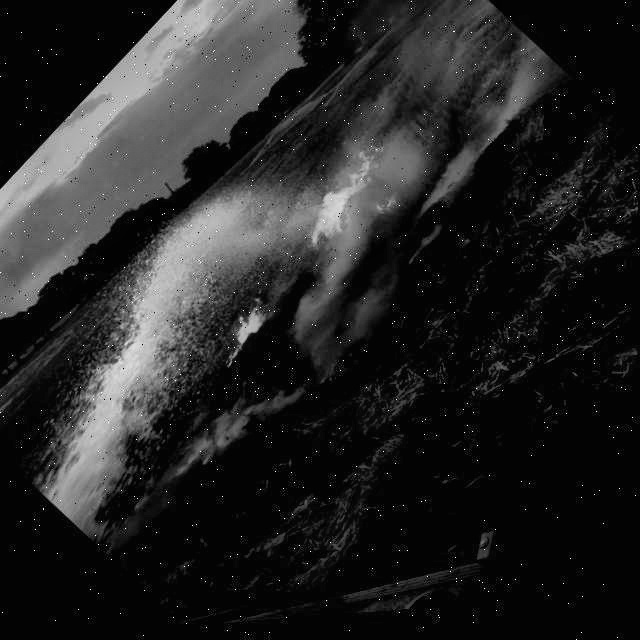Fire: (287, 140, 403, 262), (202, 294, 281, 376)
Smoke: (144, 40, 602, 522), (240, 0, 535, 164)
